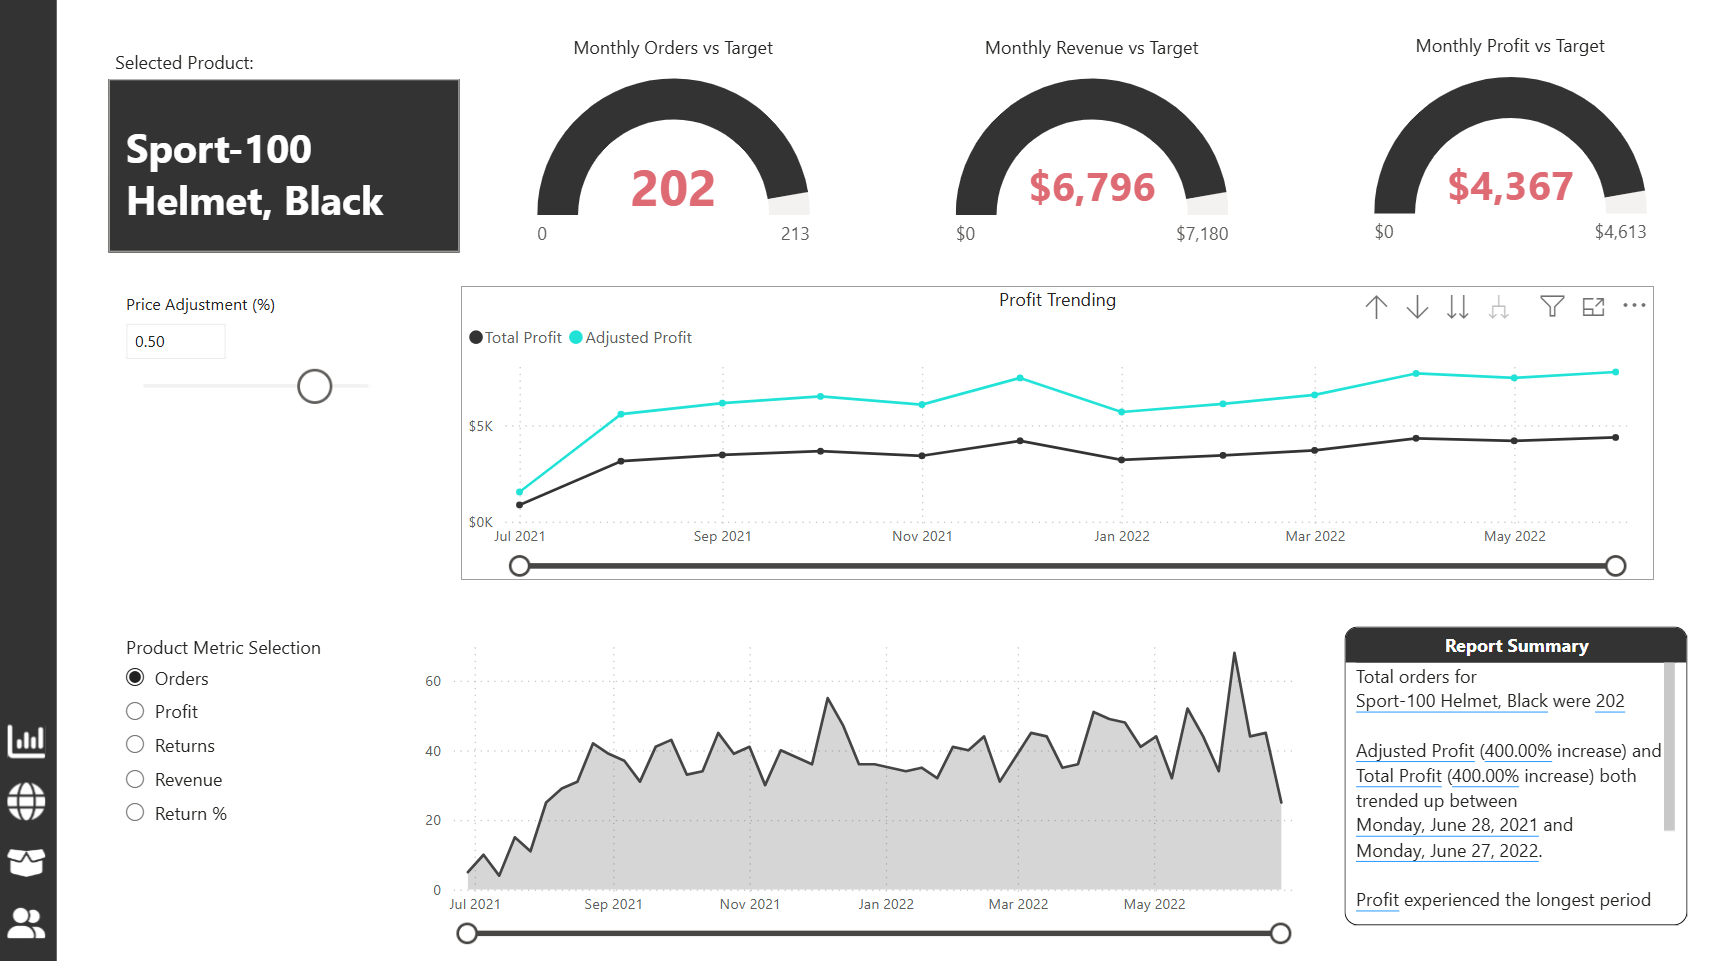

This screenshot's page, from the dashboard's own definition file:
{"tool":"powerbi","page":{"name":"Product detail","canvas":[1280,720],"ordinal":2},"visuals":[{"type":"shape","box":[0,0,45,720],"z":0},{"type":"actionButton","box":[4.5,529.6,36.2,41.1],"z":0,"group":"g1"},{"type":"gauge","title":"Monthly Orders vs Target","fields":{"MaxValue":["Measure Table.Order Target"],"Y":["Measure Table.Total Orders"]},"box":[395.2,26.2,212.1,176.3],"z":1000},{"type":"actionButton","box":[4.5,574.5,36.2,41.1],"z":1000,"group":"g1"},{"type":"gauge","title":"Monthly Revenue vs Target","fields":{"MaxValue":["Measure Table.Revenue Target"],"Y":["Measure Table.Total Revenue"]},"box":[705.2,26.2,212.1,176.3],"z":2000},{"type":"actionButton","box":[4.5,619.4,36.2,41.1],"z":2000,"group":"g1"},{"type":"gauge","title":"Monthly Profit vs Target","fields":{"MaxValue":["Measure Table.Profit Target"],"Y":["Measure Table.Total Profit"]},"box":[1015.2,25.7,212.1,176.3],"z":3000},{"type":"actionButton","box":[4.5,664.3,36.2,41.1],"z":3000,"group":"g1"},{"type":"lineChart","title":"Profit Trending","fields":{"Category":["Calendar Lookup.Date Hierarchy.Start of Year","Calendar Lookup.Date Hierarchy.Start of Month","Calendar Lookup.Date Hierarchy.Start of Week","Calendar Lookup.Date Hierarchy.Date"],"Y":["Measure Table.Total Profit","Measure Table.Adjusted Profit"]},"box":[344.1,213.2,884,218.2],"z":4000},{"type":"areaChart","title":"Returns Trending","fields":{"Category":["Calendar Lookup.Date Hierarchy.Start of Year","Calendar Lookup.Date Hierarchy.Start of Month","Calendar Lookup.Date Hierarchy.Start of Week","Calendar Lookup.Date Hierarchy.Date"],"Y":["Measure Table.Total Orders"]},"box":[311.9,465,668.6,238.5],"z":5000},{"type":"cardVisual","fields":{"Data":["Min(Product Lookup.ProductName)"]},"box":[83.2,60.5,260.2,128.6],"z":6000},{"type":"textbox","box":[83,32,136,36],"z":7000},{"type":"group","id":"g1","title":"Navigation Buttons","box":[4.5,529.6,36.2,175.8],"z":8000},{"type":"slicer","fields":{"Values":["Price Adjustment (%).Price Adjustment (%)"]},"box":[83.2,213.4,215.6,109.4],"z":8001},{"type":"slicer","fields":{"Values":["Product Metric Selection.Product Metric Selection"]},"box":[83.2,465,215.6,187.1],"z":8002},{"type":"textbox","title":"Report Summary","box":[999,465,253.9,221],"z":8003}]}

Visuals, with their boxes on the page's 1280x720 design canvas (x1, y1, x2, y2). These are canvas units, not pixel positions in the 1717x961 screenshot, which may show the page scaled, cropped or inside an application window:
shape: x1=0, y1=0, x2=45, y2=720
actionButton: x1=4, y1=530, x2=41, y2=571
"Monthly Orders vs Target" gauge: x1=395, y1=26, x2=607, y2=202
actionButton: x1=4, y1=574, x2=41, y2=616
"Monthly Revenue vs Target" gauge: x1=705, y1=26, x2=917, y2=202
actionButton: x1=4, y1=619, x2=41, y2=660
"Monthly Profit vs Target" gauge: x1=1015, y1=26, x2=1227, y2=202
actionButton: x1=4, y1=664, x2=41, y2=705
"Profit Trending" lineChart: x1=344, y1=213, x2=1228, y2=431
"Returns Trending" areaChart: x1=312, y1=465, x2=980, y2=704
cardVisual - Min(Product Lookup.ProductName): x1=83, y1=60, x2=343, y2=189
textbox: x1=83, y1=32, x2=219, y2=68
"Navigation Buttons" group: x1=4, y1=530, x2=41, y2=705
slicer - Price Adjustment (%).Price Adjustment (%): x1=83, y1=213, x2=299, y2=323
slicer - Product Metric Selection.Product Metric Selection: x1=83, y1=465, x2=299, y2=652
"Report Summary" textbox: x1=999, y1=465, x2=1253, y2=686
